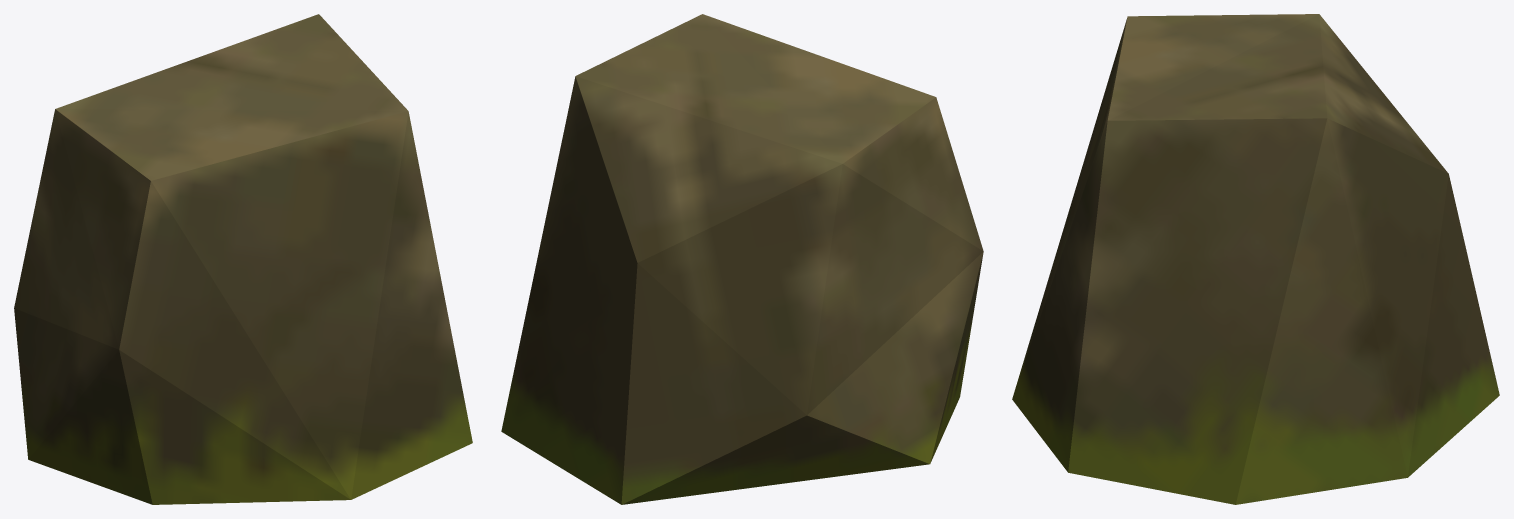
Rendered from rock_04.fbx.
3 renders of one model, left to right at view 1: azimuth 30°, elevation 25°; view 2: azimuth 150°, elevation 25°; view 3: azimuth 270°, elevation 25°, orthographic. The views are drawn at different scales.
Parts seen in each view (by area): view 1: obj0.015; view 2: obj0.015; view 3: obj0.015.
Boxes of the visible parts, bbox=[...] form: obj0.015: bbox=[14, 14, 472, 504]; obj0.015: bbox=[501, 14, 983, 504]; obj0.015: bbox=[1012, 14, 1499, 504].
Bounding box in the file's own units: 0.8413 × 0.658 × 0.8499.
